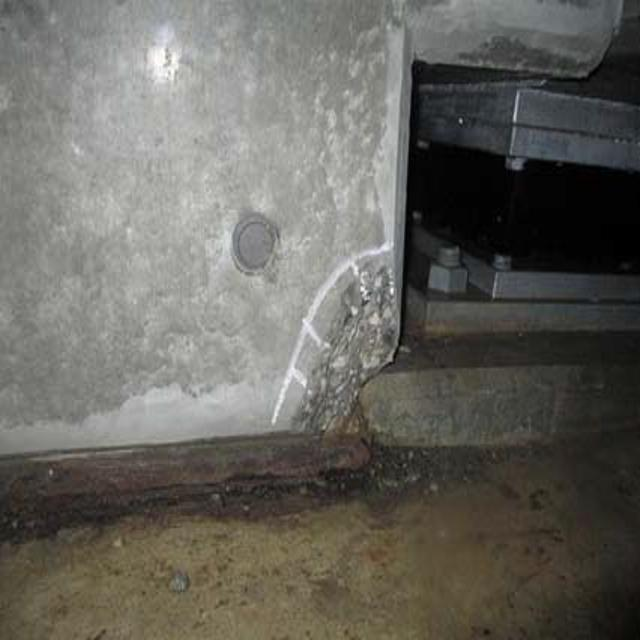spalling: (272, 257, 408, 449)
